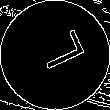L_SW: (26, 30, 84, 80)
